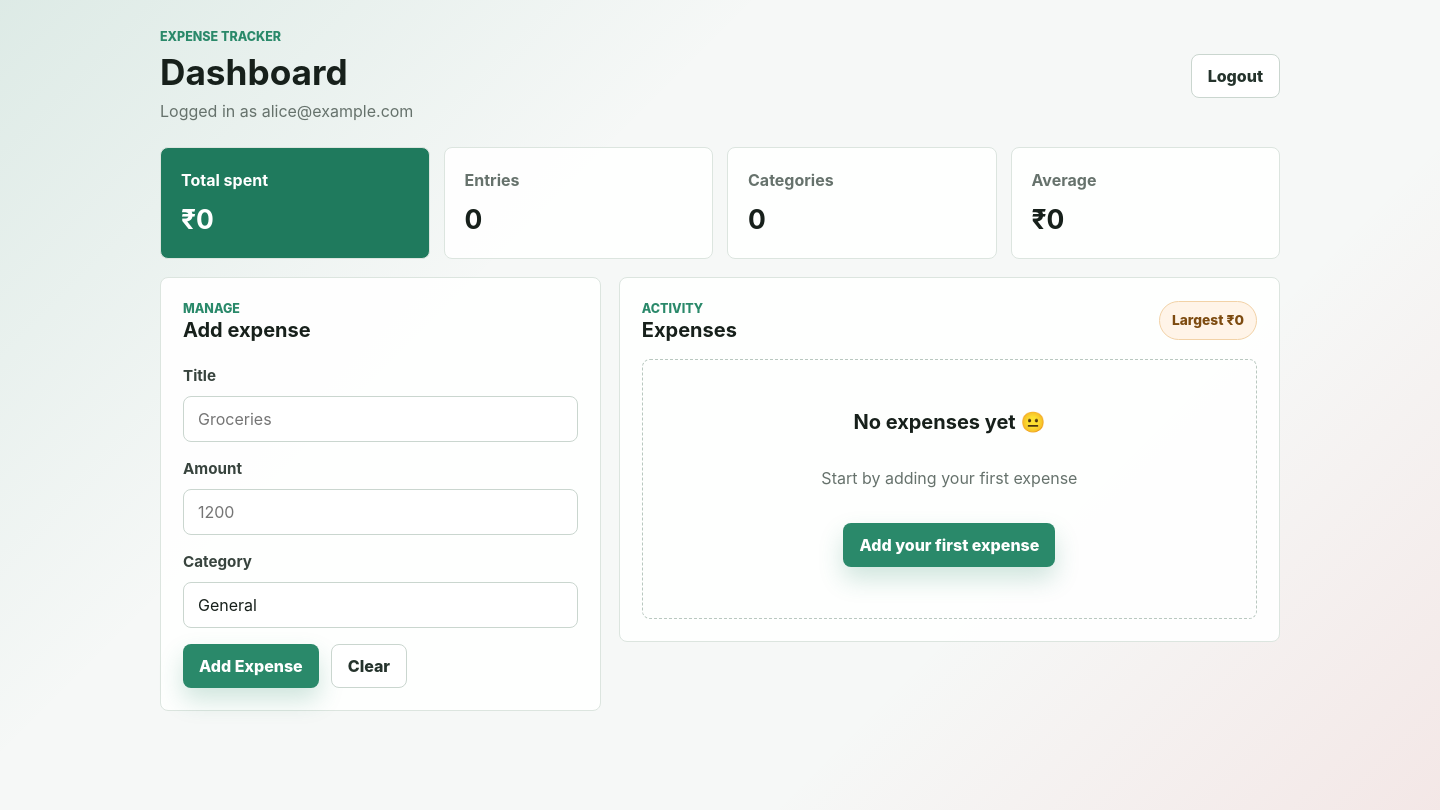
Test: DashboardPage › creates a new expense and refreshes the list
Check: the heading "No expenses yet 😐" is shown, box x1=853 y1=411 x2=1045 y2=433
Type "Coffee" into the field with placeholder "Groceries" at (380, 419), box x1=183 y1=396 x2=578 y2=442
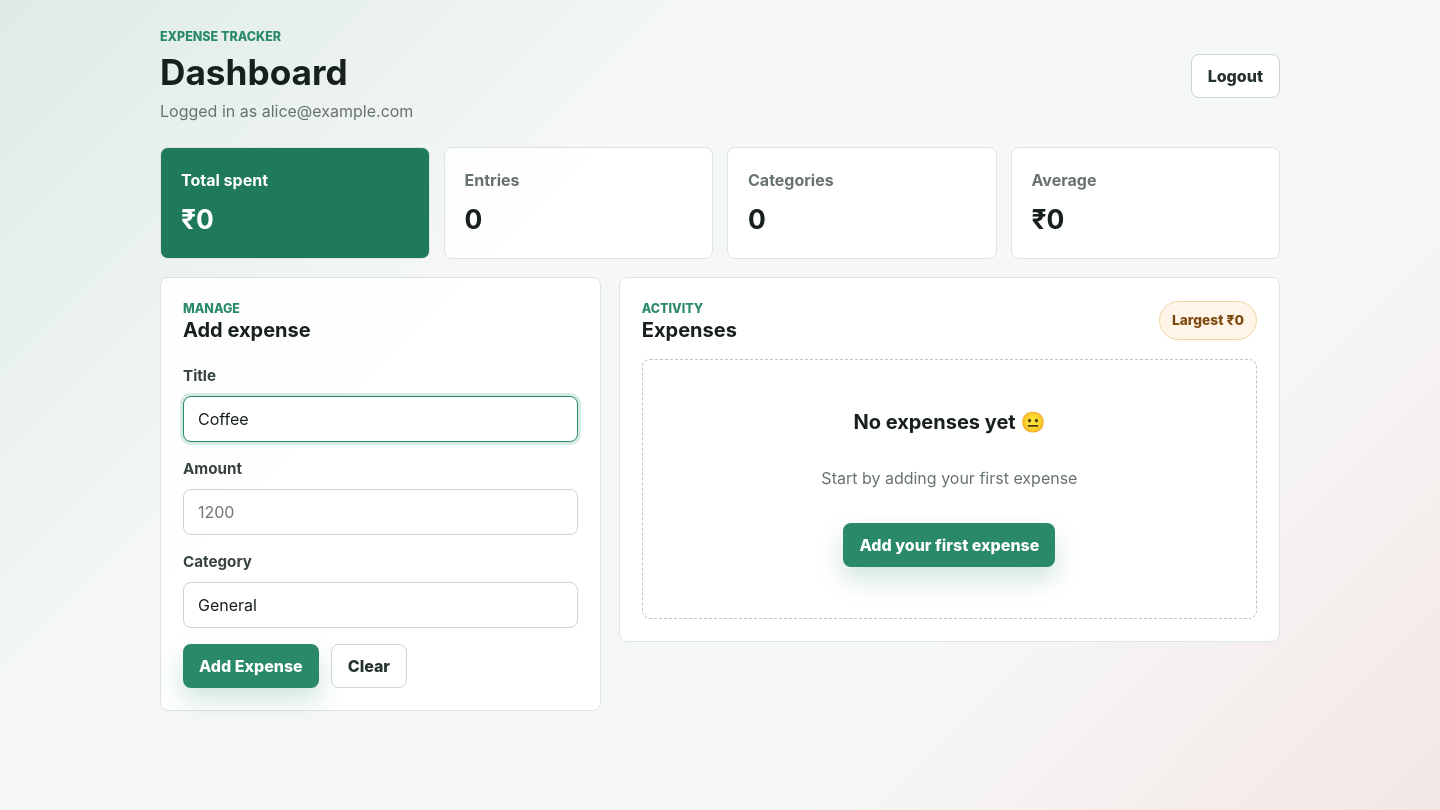
Type "250" into the number field with placeholder "1200" at (380, 512), box x1=183 y1=489 x2=578 y2=535
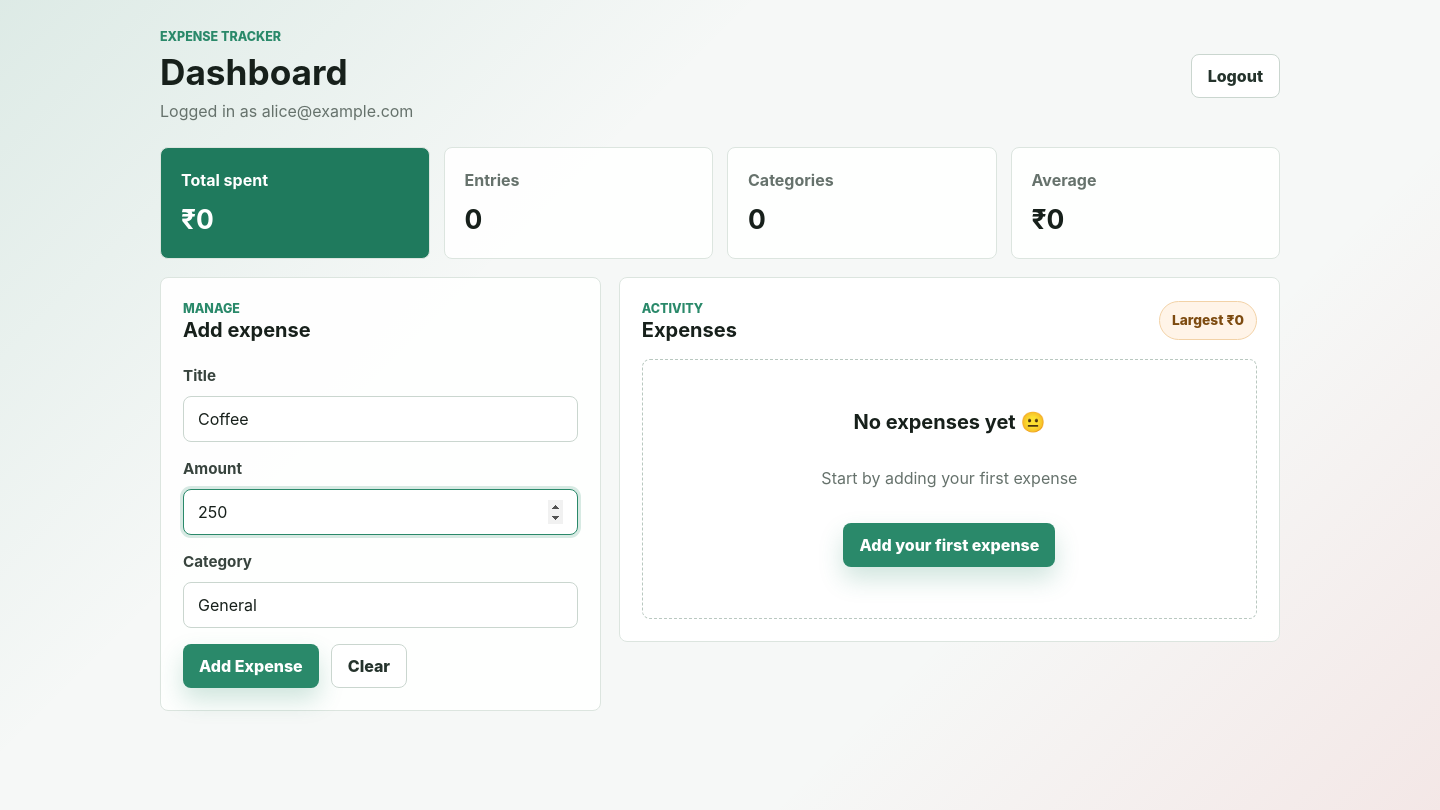
Replace the text in the field with placeholder "Food" below "Category" with "Food" at (380, 604), box x1=183 y1=582 x2=578 y2=628
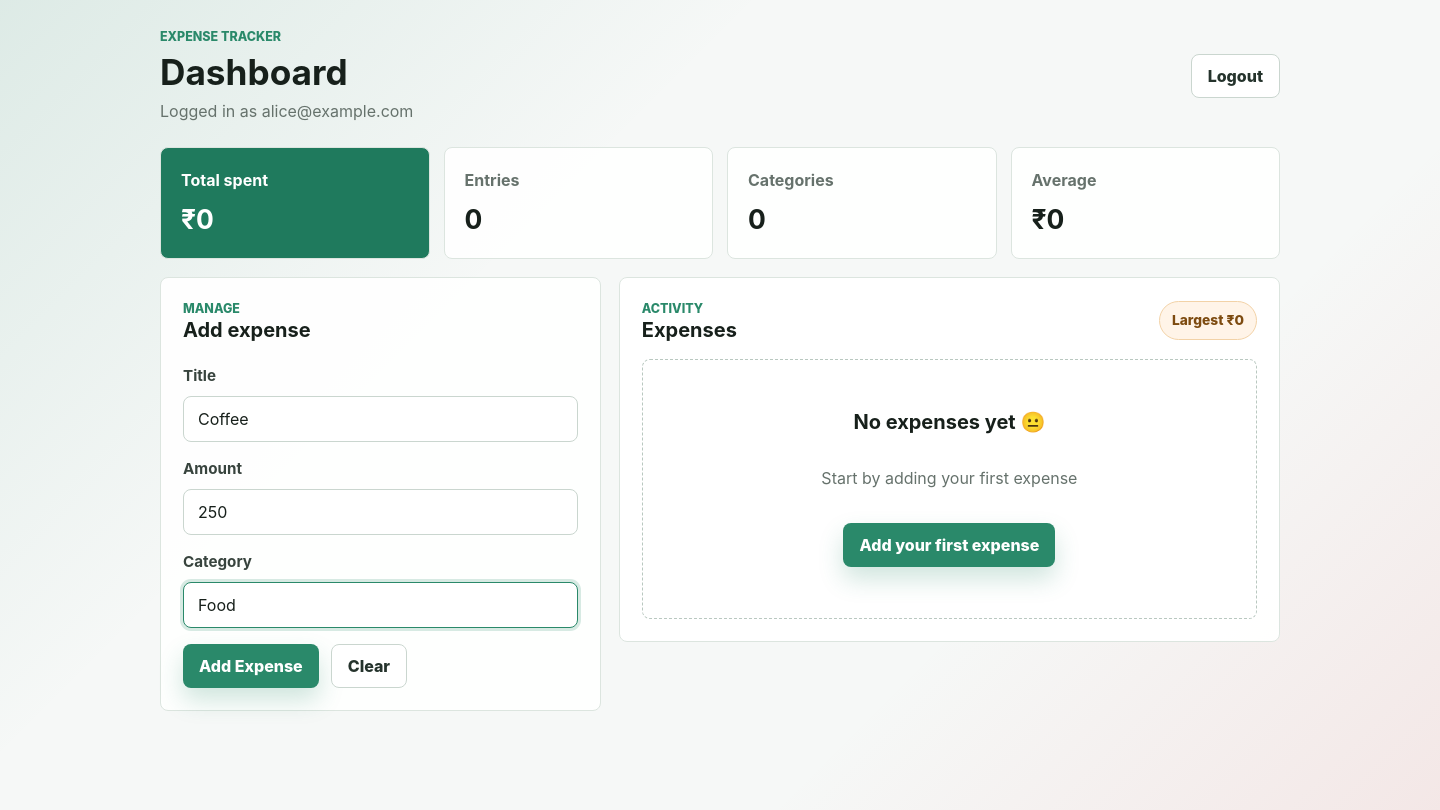
Click the button "Add Expense" at (251, 666), box x1=183 y1=644 x2=319 y2=688
(page scrolled)
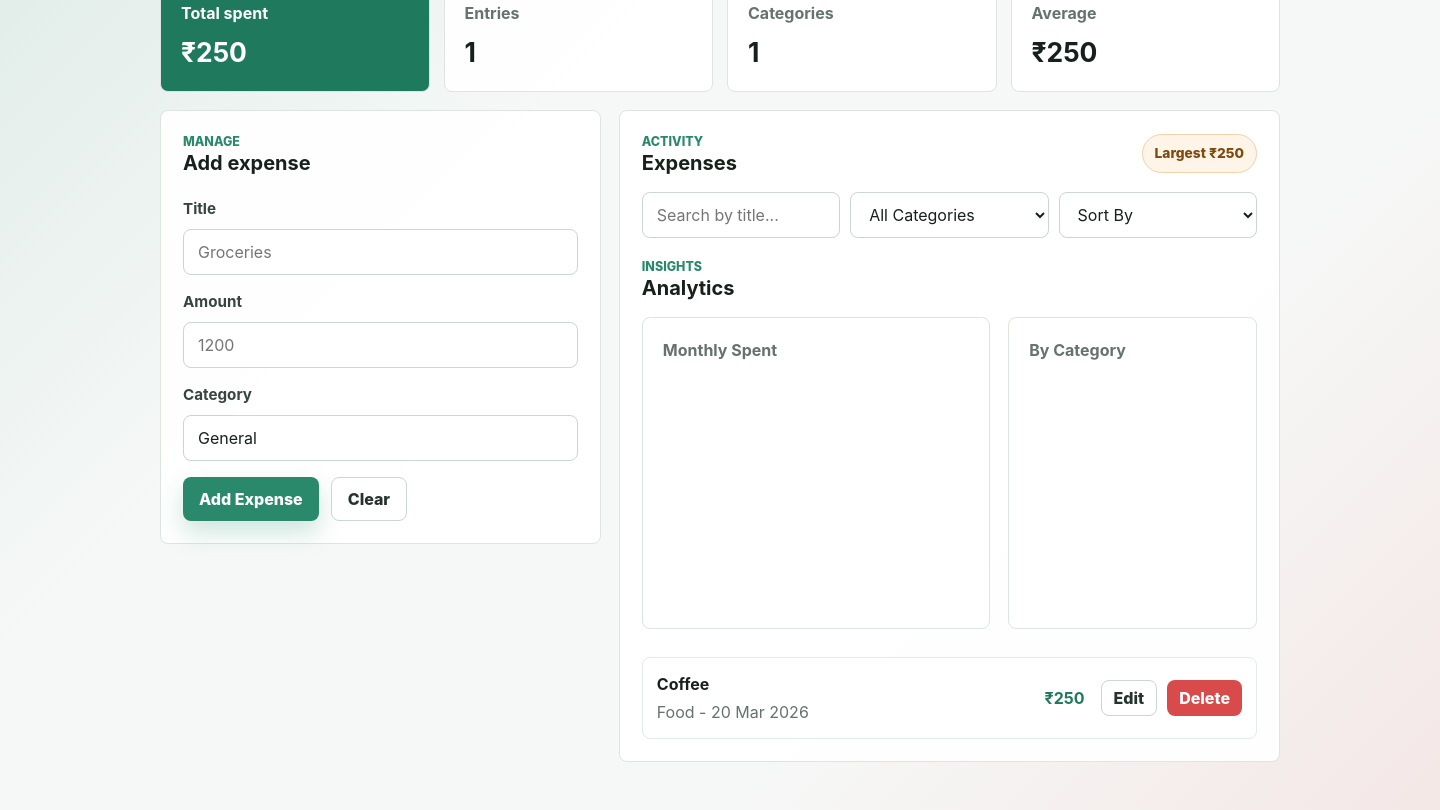
Check: the text "Coffee" is shown, box x1=657 y1=674 x2=709 y2=694
